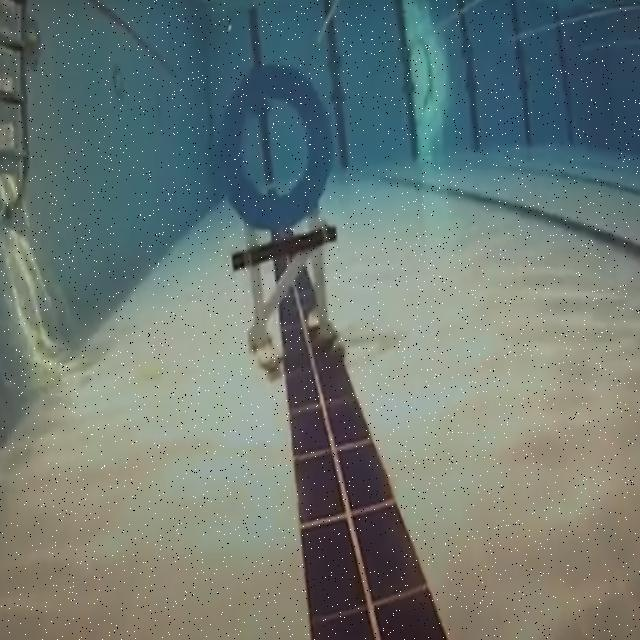Circle: (218, 61, 332, 232)
